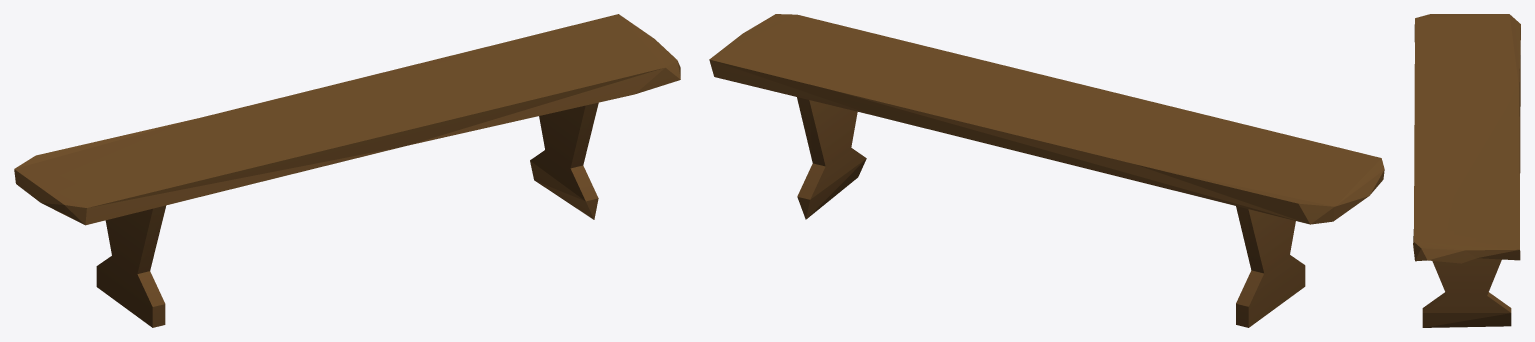
File: Bench_01.fbx
3 renders of one model, left to right at view 1: azimuth 30°, elevation 25°; view 2: azimuth 150°, elevation 25°; view 3: azimuth 270°, elevation 25°, orthographic. The views are drawn at different scales.
Parts seen in each view (by area): view 1: Bench_01; view 2: Bench_01; view 3: Bench_01.
Boxes of the visible parts, bbox=[...] form: Bench_01: bbox=[14, 14, 680, 327]; Bench_01: bbox=[709, 14, 1384, 327]; Bench_01: bbox=[1413, 14, 1520, 327].
Size of the model in its own units: 230 by 49.9 by 43.71.
